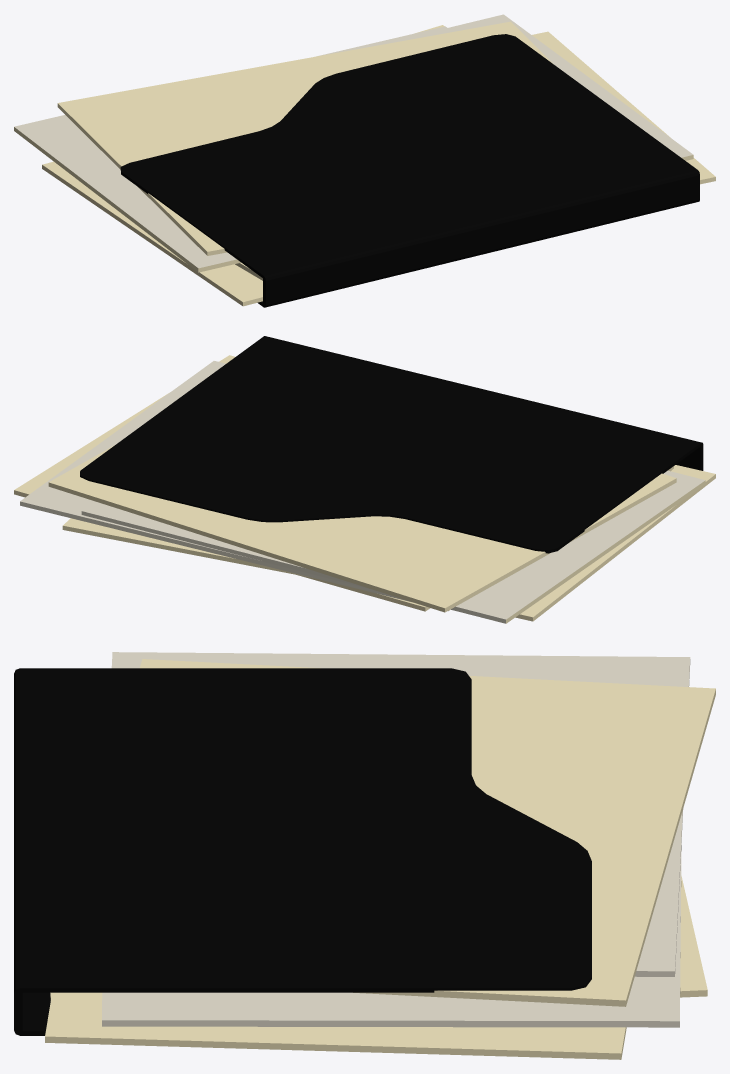
Rendered from props-folder-v1.glb.
The picture shows the model from 3 angles, top to bottom: view 1: azimuth 30°, elevation 25°; view 2: azimuth 150°, elevation 25°; view 3: azimuth 270°, elevation 25°; orthographic projection. The views are drawn at different scales.
Parts seen in each view (by area): view 1: Plane_0, Plane.001_1; view 2: Plane_0, Plane.001_1; view 3: Plane_0, Plane.001_1.
Part boxes in pixels (x1=…): Plane_0: x1=120, y1=34, x2=699, y2=307; Plane.001_1: x1=14, y1=14, x2=715, y2=306; Plane_0: x1=80, y1=336, x2=703, y2=553; Plane.001_1: x1=14, y1=355, x2=715, y2=623; Plane_0: x1=14, y1=668, x2=591, y2=1035; Plane.001_1: x1=45, y1=652, x2=715, y2=1059.
Size of the model in its own units: 3.13 by 0.1817 by 2.43.
